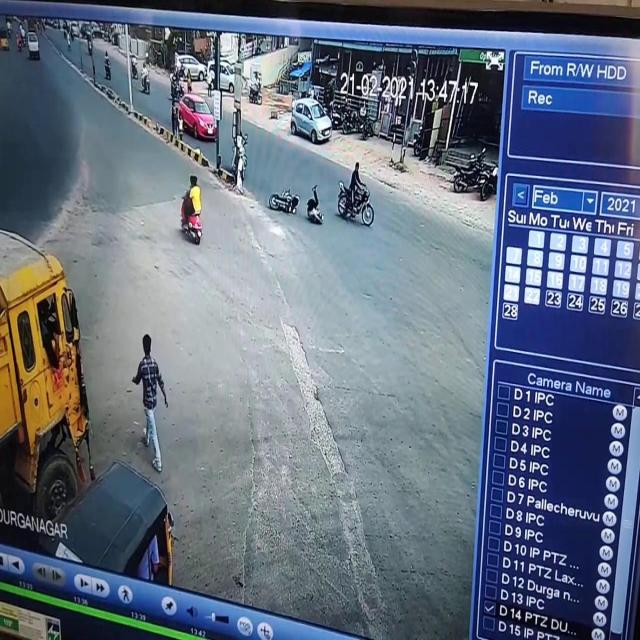accident: (260, 168, 328, 233)
